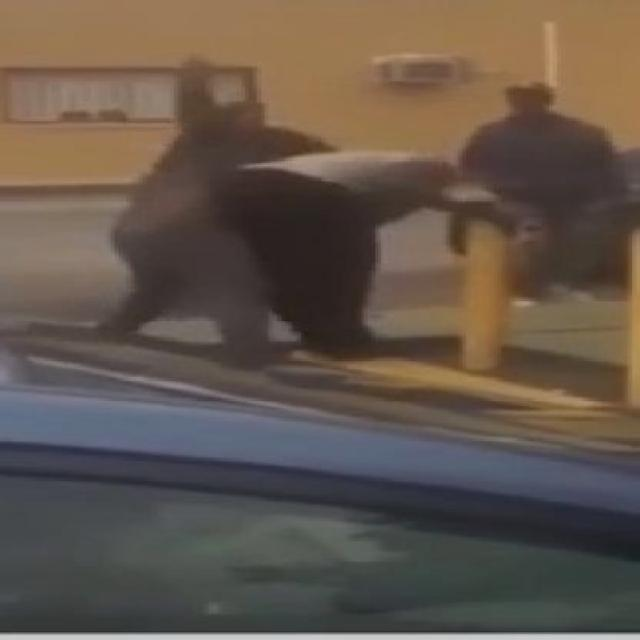fight: (93, 39, 458, 376)
